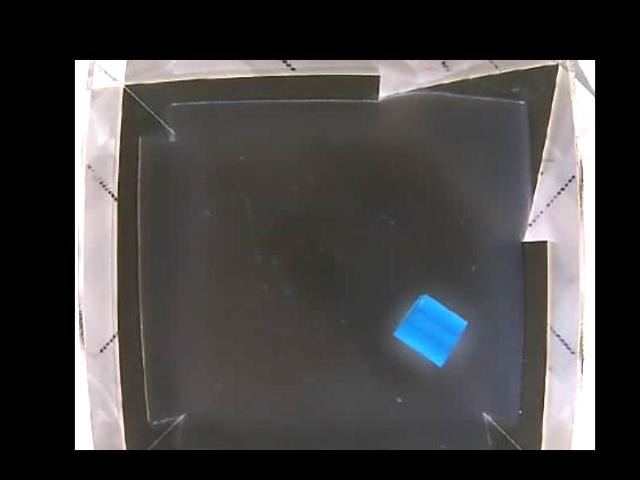Carrot: (393, 294, 467, 363)
